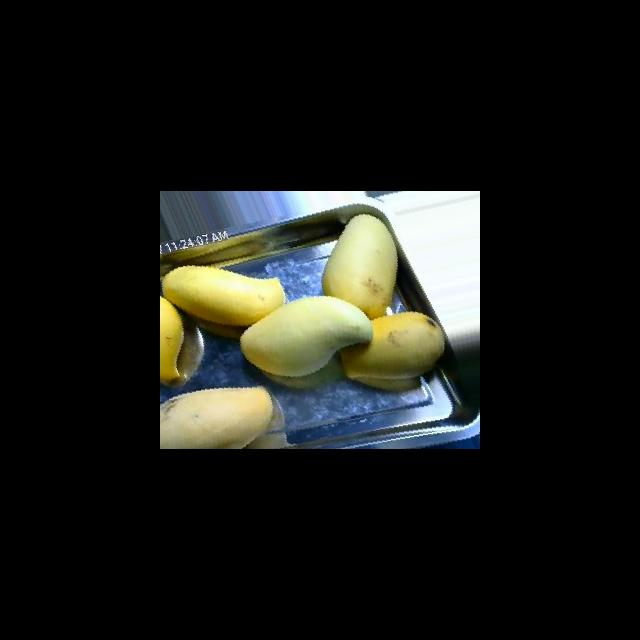mango: (239, 295, 373, 377), (339, 310, 444, 390), (321, 213, 398, 318), (161, 264, 285, 326), (160, 385, 273, 448), (160, 293, 184, 383)
